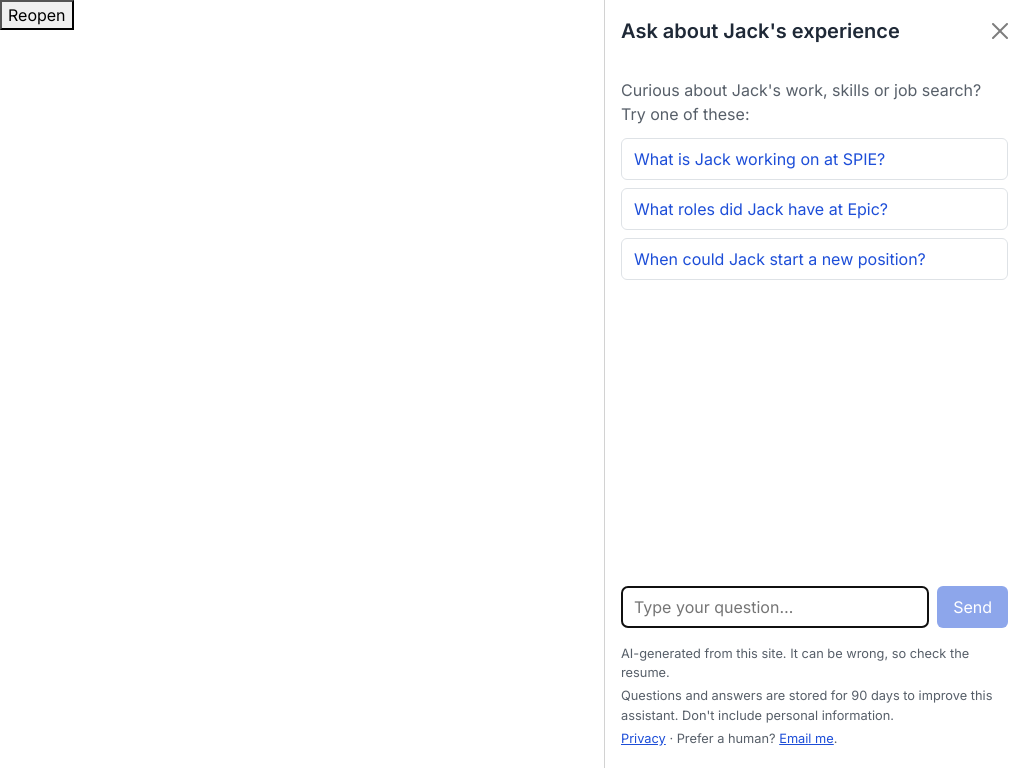
Scenario: AssistantDrawer › shows answers as plain text, never as markup
Click the button "What is Jack working on at SPIE?".
click(814, 159)  # box x1=621 y1=138 x2=1008 y2=180
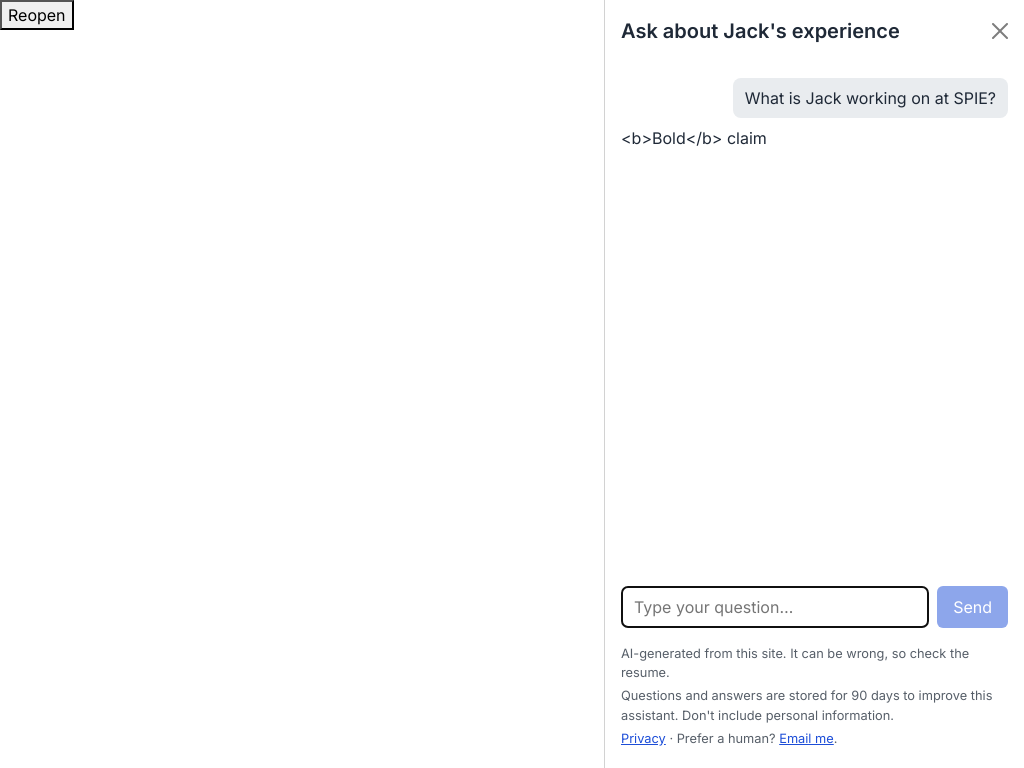
Expected: the text "<b>Bold</b> claim" is shown, x1=621 y1=128 x2=767 y2=148
